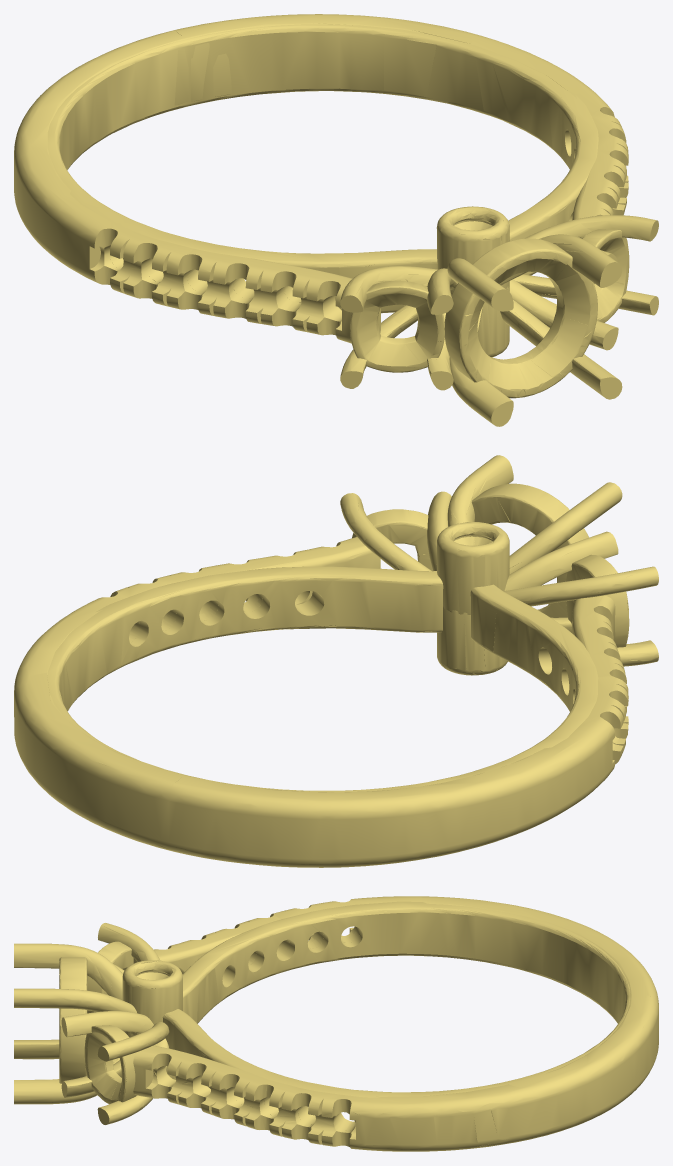
The picture shows the model from 3 angles, top to bottom: view 1: azimuth 30°, elevation 25°; view 2: azimuth 150°, elevation 25°; view 3: azimuth 270°, elevation 25°; orthographic projection. The views are drawn at different scales.
Visible parts, largest first — view 1: lr-0033; view 2: lr-0033; view 3: lr-0033.
Boxes of the visible parts, <box> form: lr-0033: <box>14,14,658,426</box>; lr-0033: <box>14,455,658,867</box>; lr-0033: <box>14,896,658,1151</box>.
Size of the model in its own units: 0.7918 by 0.207 by 1.
